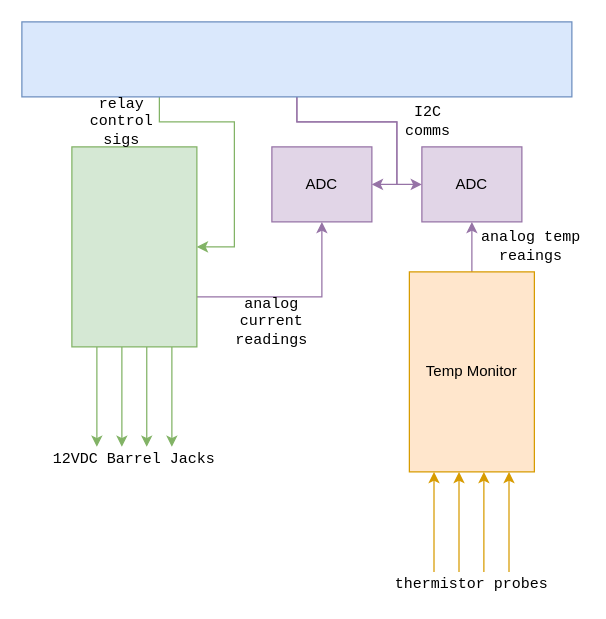
Some shapes in this 606 by 619 pixel diagram are drawn without their labels. Here are the shapes that lost their labels. From the top down, the centre of each, then its label:
the point at 296,59: Main Control Board
the point at 134,246: Relay Driver
